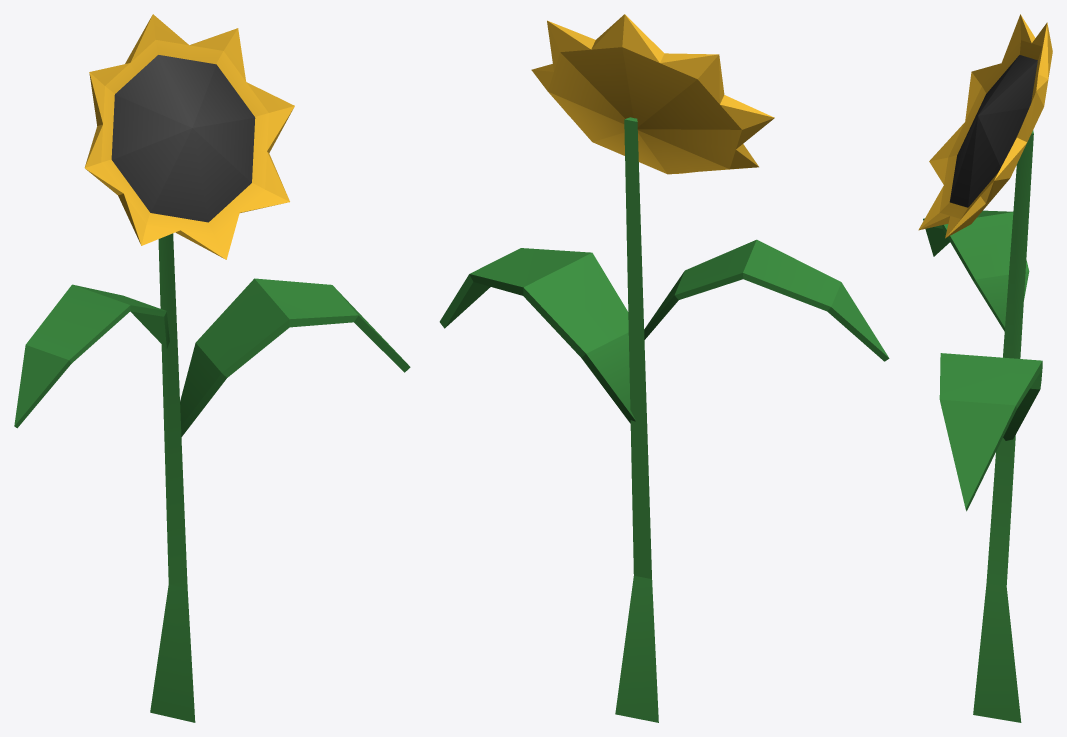
Rendered from plant_008.glb.
3 views of the same model, side by side, from view 1: azimuth 30°, elevation 25°; view 2: azimuth 150°, elevation 25°; view 3: azimuth 270°, elevation 25° (orthographic). The views are drawn at different scales.
Visible parts, largest first — view 1: plant_008; view 2: plant_008; view 3: plant_008.
Boxes of the visible parts, box(x1,y1,x2,y2) form: plant_008: box(14, 14, 410, 722); plant_008: box(439, 14, 889, 722); plant_008: box(918, 14, 1052, 722).
Bounding box in the file's own units: 1.06 × 1.67 × 0.2962.
1 material, 1 textured.
